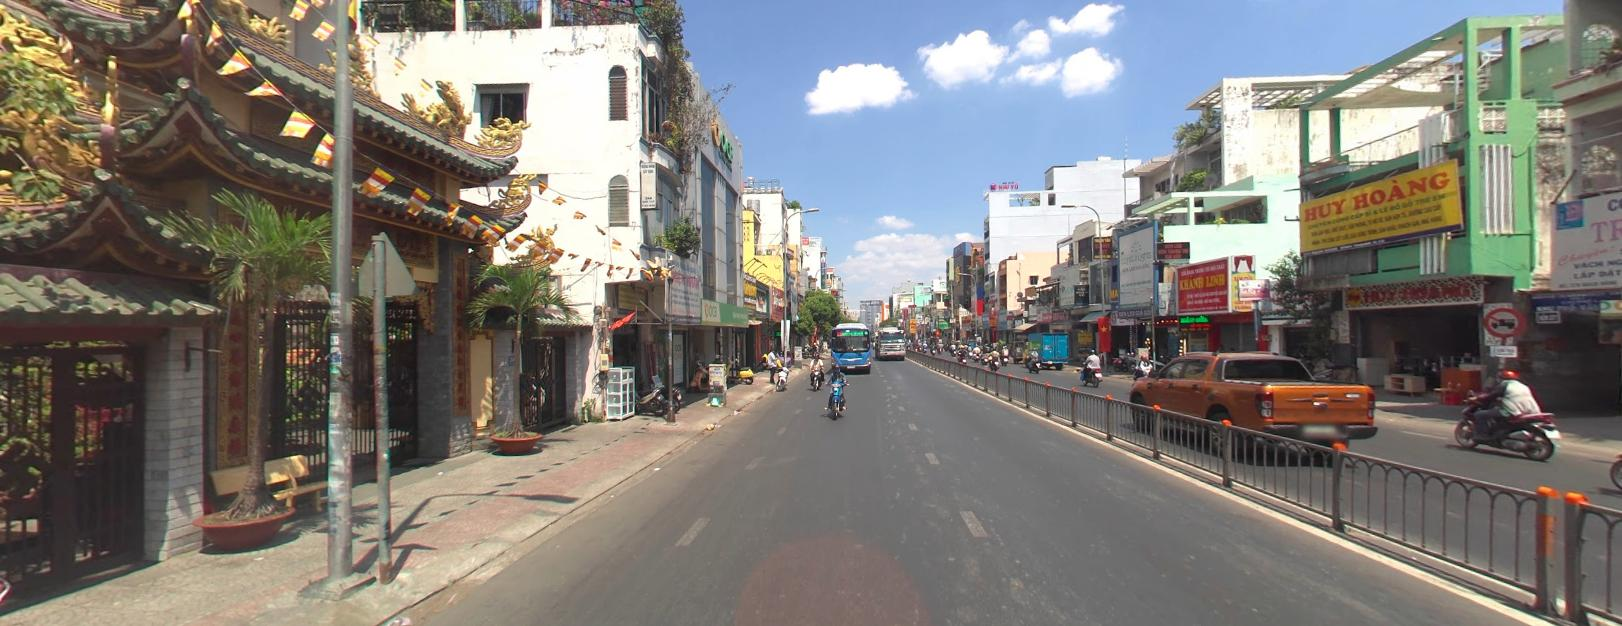Cam con lai: (1484, 305, 1523, 336)
